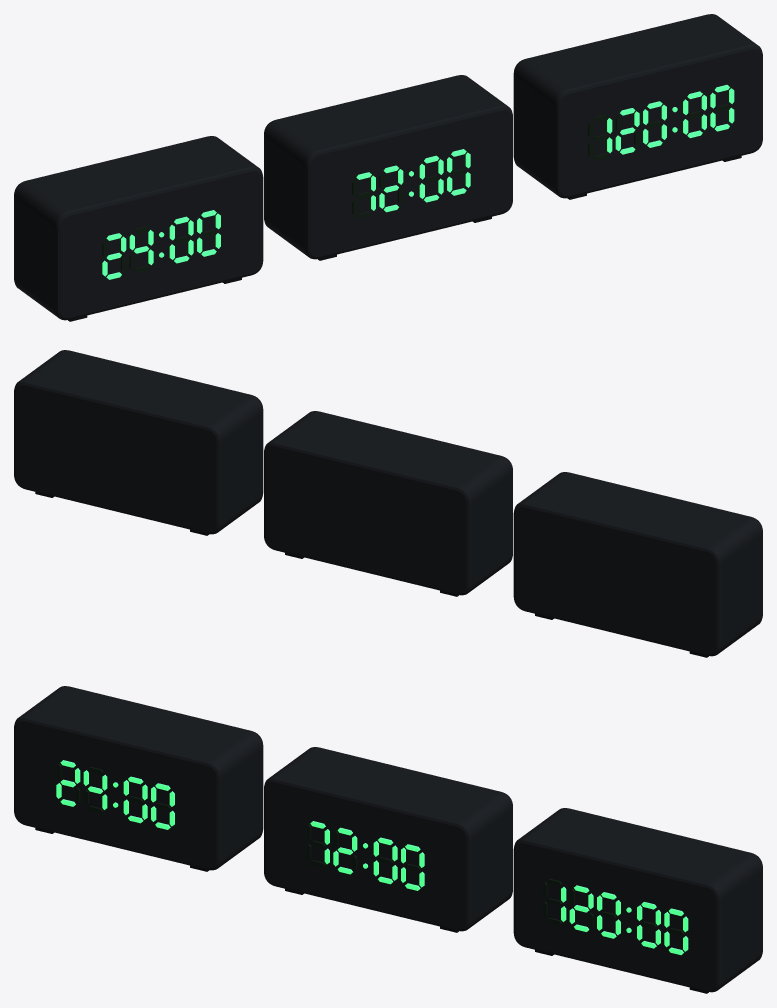
The model's file is digital-clocks-24-72-120h.glb.
The picture shows the model from 3 angles, top to bottom: view 1: azimuth 30°, elevation 25°; view 2: azimuth 150°, elevation 25°; view 3: azimuth 330°, elevation 25°; orthographic projection.
Parts seen in each view (by area): view 1: case_1, case_2, case_3; view 2: case_3, case_1, case_2; view 3: case_1, case_2, case_3.
Part boxes in pixels (x1=…): case_1: x1=14, y1=136, x2=263, y2=320; case_2: x1=264, y1=75, x2=512, y2=259; case_3: x1=513, y1=14, x2=762, y2=198; case_3: x1=14, y1=350, x2=263, y2=534; case_1: x1=513, y1=472, x2=762, y2=656; case_2: x1=264, y1=411, x2=512, y2=595; case_1: x1=14, y1=686, x2=263, y2=870; case_2: x1=264, y1=747, x2=512, y2=931; case_3: x1=513, y1=808, x2=762, y2=992.
Size of the model in its own units: 0.4928 by 0.0762 by 0.0556.
